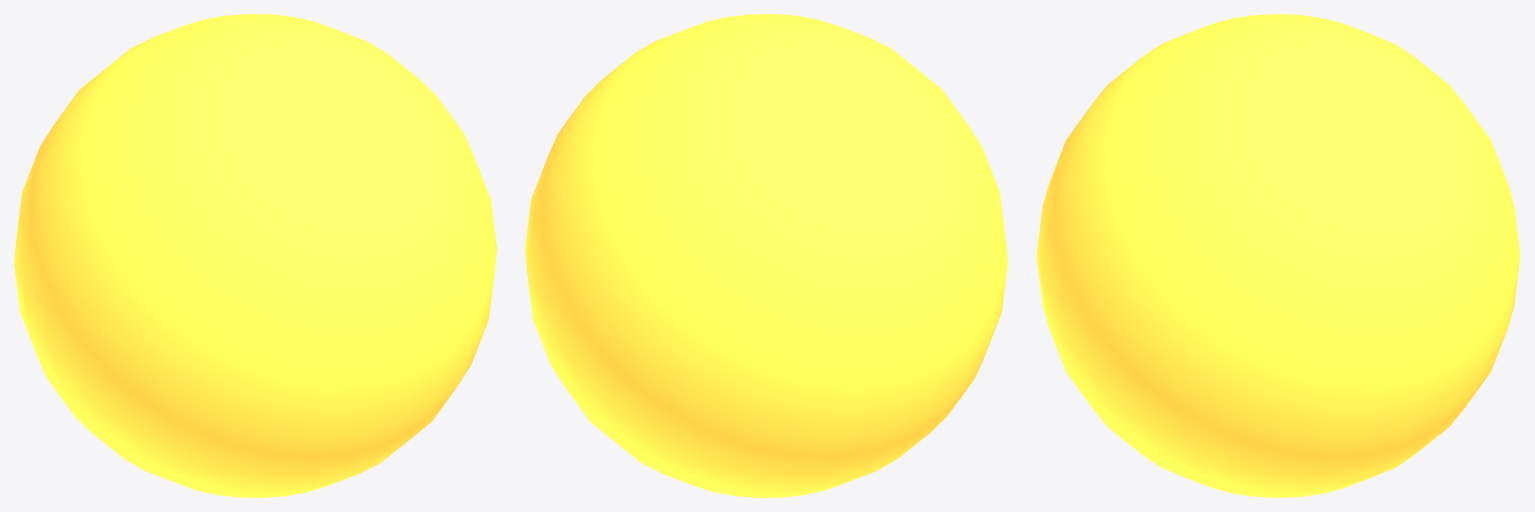
Rendered from Sun.glb.
3 views of the same model, side by side, from view 1: azimuth 30°, elevation 25°; view 2: azimuth 150°, elevation 25°; view 3: azimuth 270°, elevation 25° (orthographic).
Parts seen in each view (by area): view 1: Sun_Corona; view 2: Sun_Corona; view 3: Sun_Corona.
Part boxes in pixels (bbox=[...]): Sun_Corona: bbox=[14, 14, 496, 497]; Sun_Corona: bbox=[525, 14, 1007, 497]; Sun_Corona: bbox=[1036, 14, 1520, 497].
Size of the model in its own units: 4.68 by 4.68 by 4.68.
